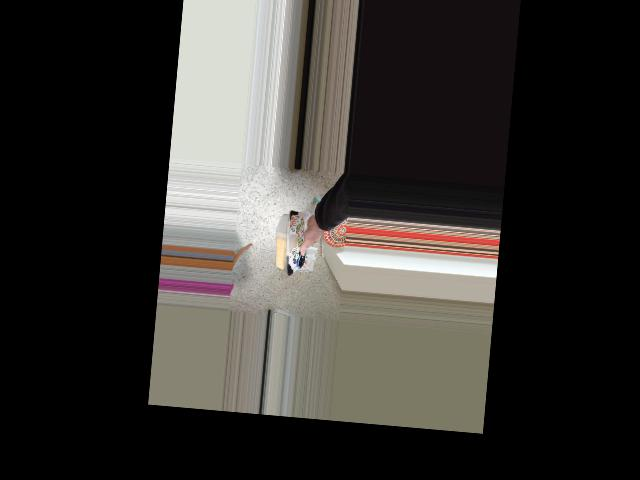cheese: (255, 200, 326, 280)
